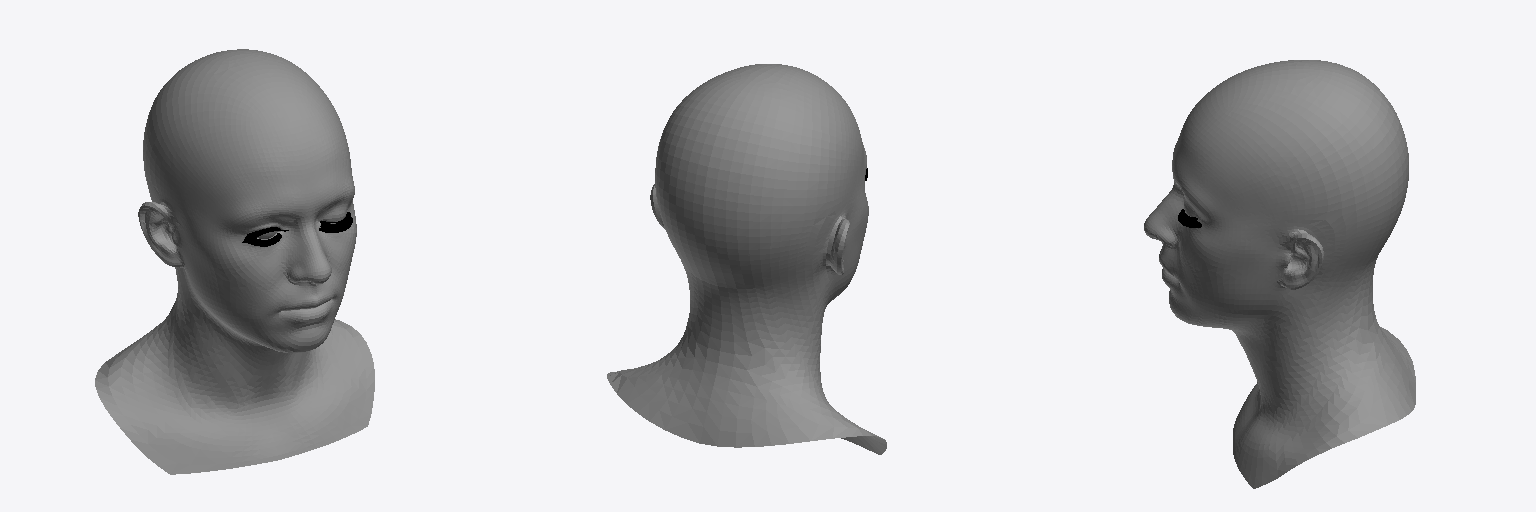
Rendered from eyeBlink_L.obj.
The picture shows the model from 3 angles: view 1: azimuth 30°, elevation 25°; view 2: azimuth 150°, elevation 25°; view 3: azimuth 270°, elevation 25°; orthographic projection.
Bounding box in the file's own units: 24.83 × 33.81 × 22.32.